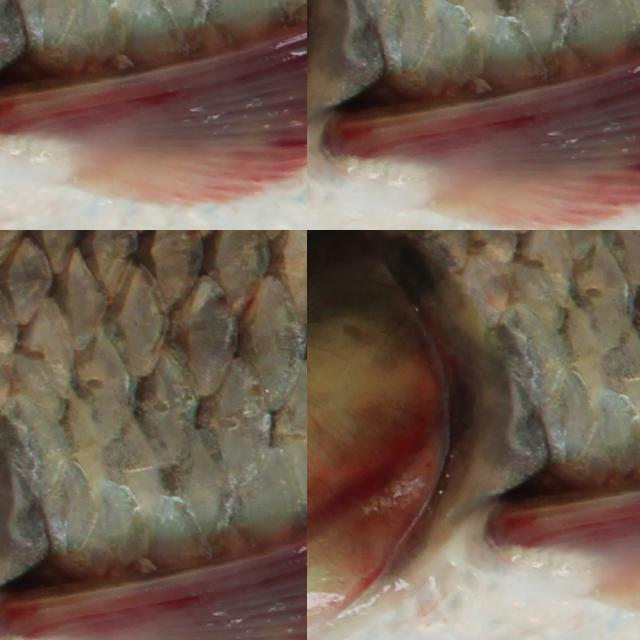fish: (307, 230, 640, 640), (0, 230, 307, 640)
